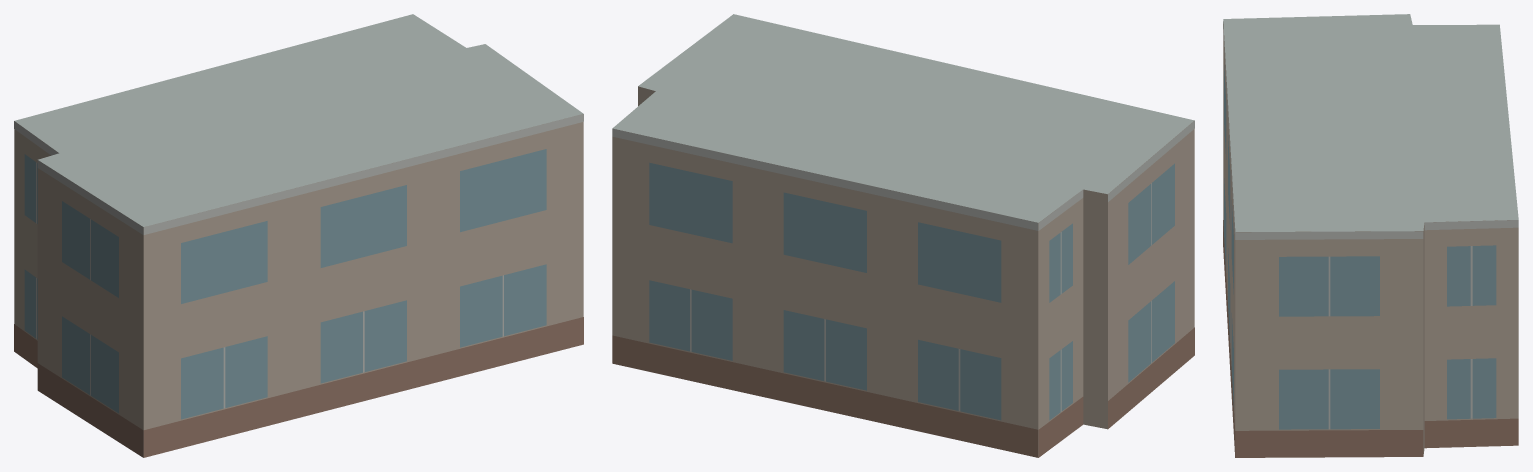
Rendered from survey-upis-32494214.glb.
3 views of the same model, side by side, from view 1: azimuth 30°, elevation 25°; view 2: azimuth 150°, elevation 25°; view 3: azimuth 270°, elevation 25° (orthographic). The views are drawn at different scales.
Parts seen in each view (by area): view 1: survey-upis-32494214.tmp; view 2: survey-upis-32494214.tmp; view 3: survey-upis-32494214.tmp.
Part boxes in pixels (x1,y1,x2,y2): survey-upis-32494214.tmp: [14, 14, 583, 457]; survey-upis-32494214.tmp: [612, 14, 1194, 457]; survey-upis-32494214.tmp: [1223, 14, 1518, 457].
Bounding box in the file's own units: 14.51 × 7 × 8.32.
